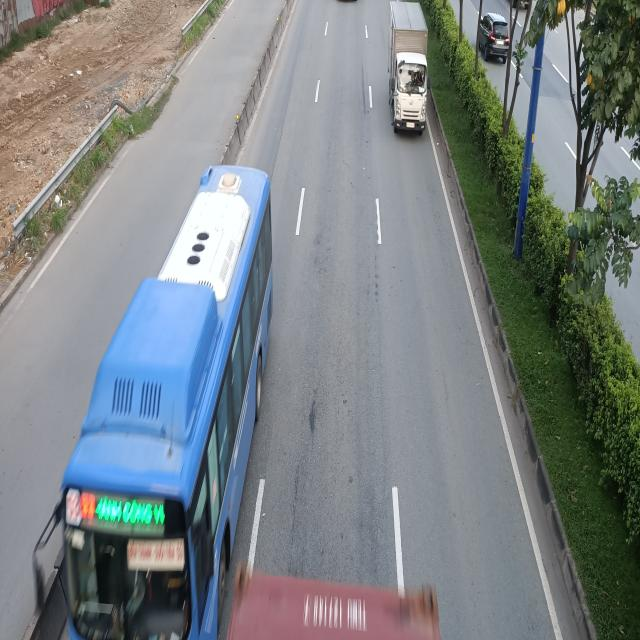coach: (25, 148, 273, 640)
truck: (388, 3, 433, 138)
